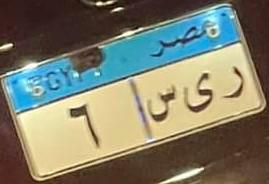6: (72, 100, 101, 157)
ر: (223, 57, 247, 109)
س: (147, 77, 177, 126)
ي: (180, 65, 215, 116)
